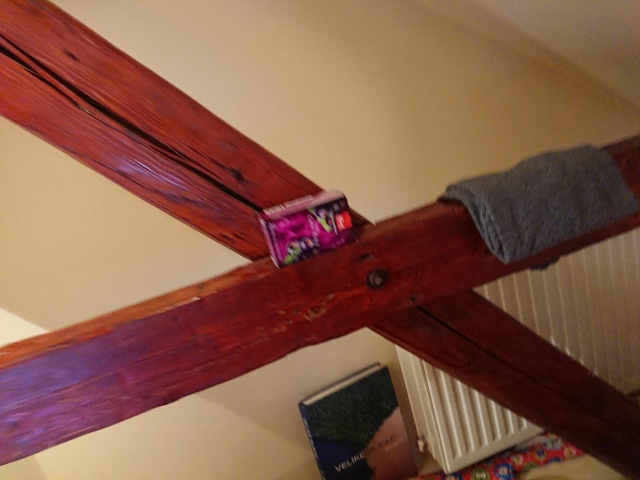Franck Black Currant Tea 60g: (254, 186, 360, 271)
